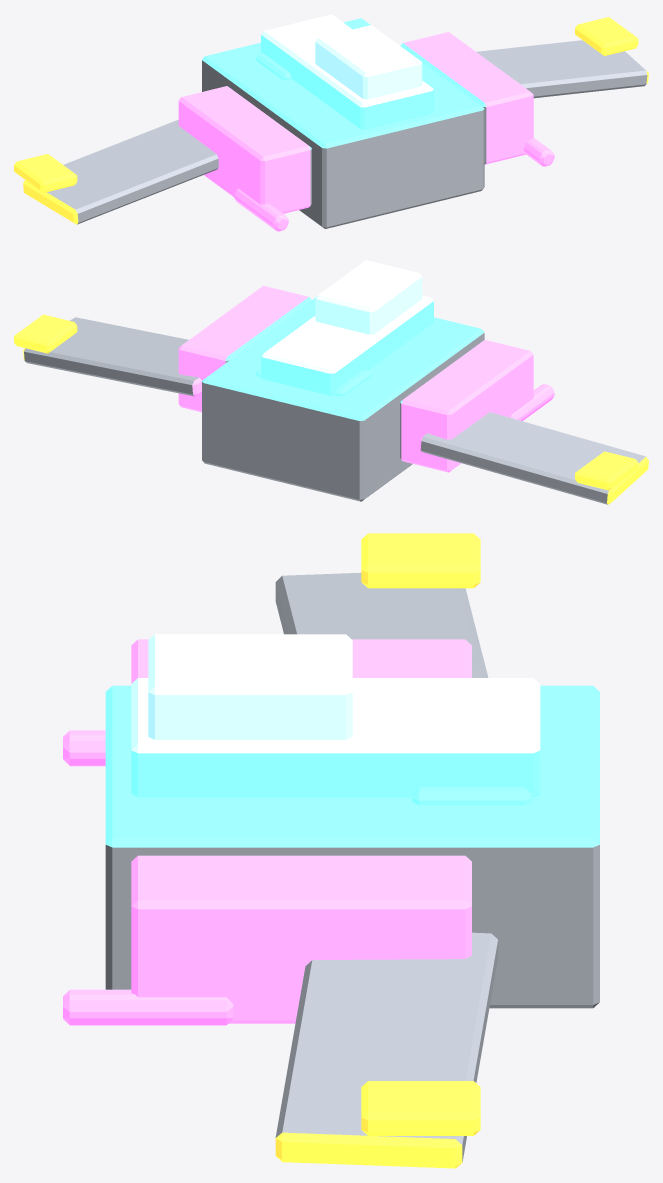
The model's file is Ship_Body_Upgrade02.fbx.
The picture shows the model from 3 angles, top to bottom: view 1: azimuth 30°, elevation 25°; view 2: azimuth 150°, elevation 25°; view 3: azimuth 270°, elevation 25°; orthographic projection. The views are drawn at different scales.
Parts seen in each view (by area): view 1: Ship_Body_Upgrade02; view 2: Ship_Body_Upgrade02; view 3: Ship_Body_Upgrade02.
Boxes of the visible parts, left/top/right/bottom form: Ship_Body_Upgrade02: left=14, top=14, right=648, bottom=231; Ship_Body_Upgrade02: left=14, top=260, right=648, bottom=504; Ship_Body_Upgrade02: left=63, top=533, right=599, bottom=1168.
Size of the model in its own units: 4.05 by 0.88 by 1.58.
